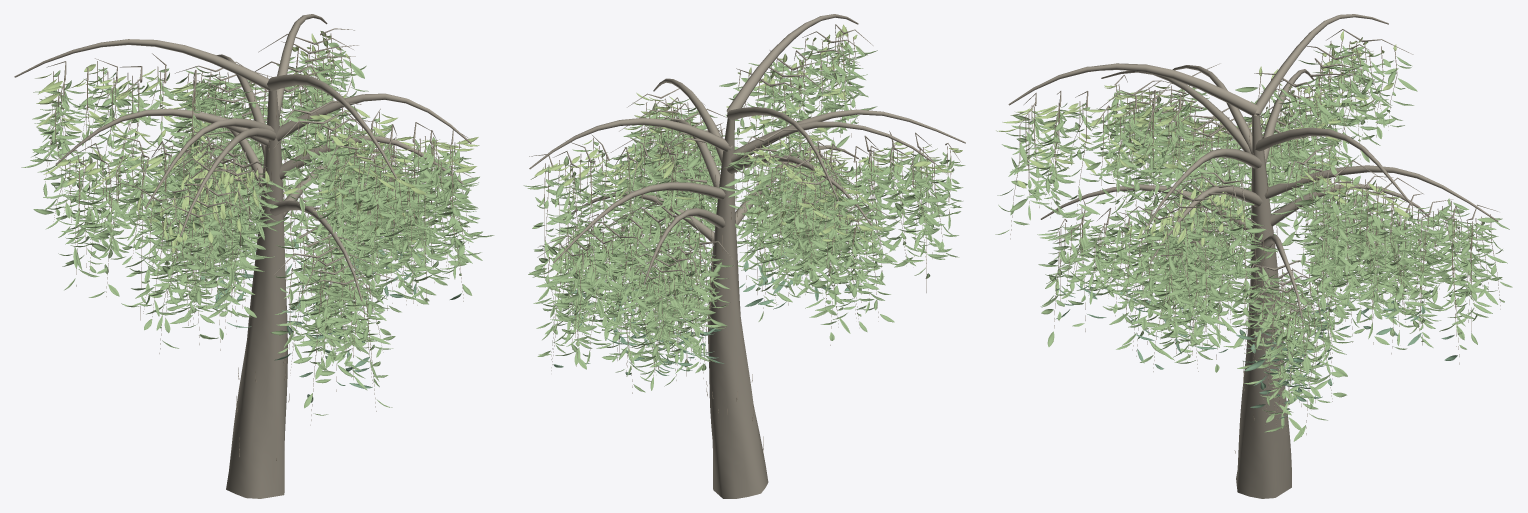
The picture shows the model from 3 angles, left to right: view 1: azimuth 30°, elevation 25°; view 2: azimuth 150°, elevation 25°; view 3: azimuth 270°, elevation 25°; orthographic projection. The views are drawn at different scales.
Visible parts, largest first — view 1: willow_swept; view 2: willow_swept; view 3: willow_swept.
Boxes of the visible parts, left/top/right/bottom form: willow_swept: left=14, top=14, right=494, bottom=498; willow_swept: left=523, top=14, right=965, bottom=498; willow_swept: left=995, top=14, right=1512, bottom=498.
Size of the model in its own units: 5.35 by 6.24 by 6.88.
